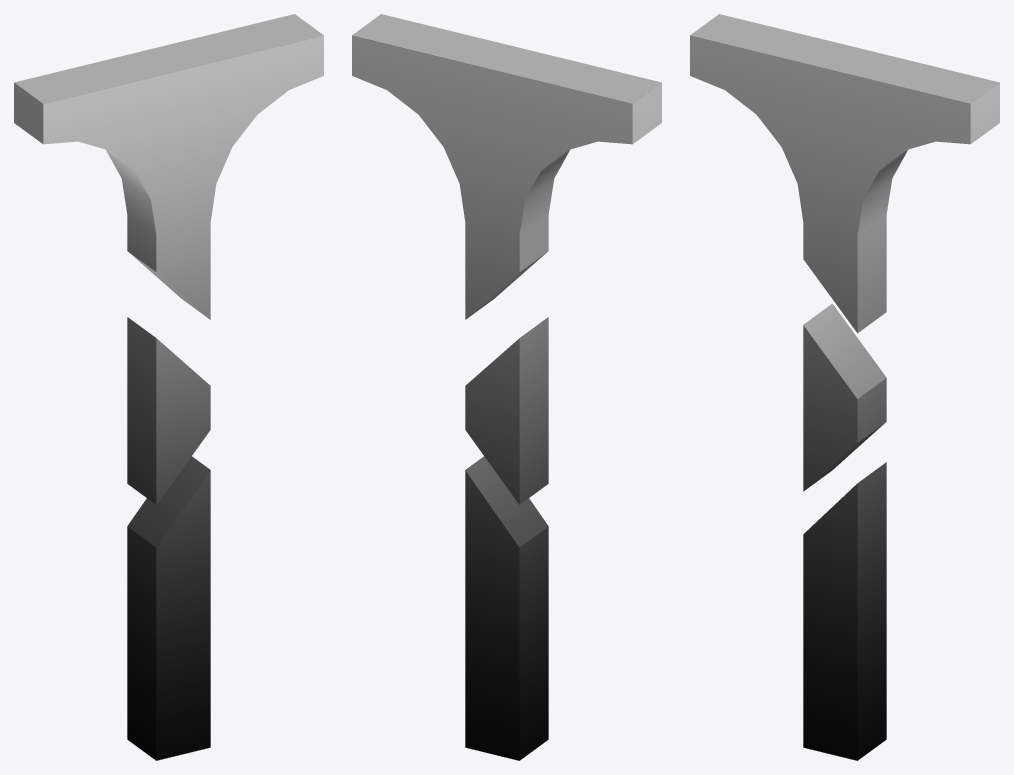
Rendered from BG_pillier_V5.fbx.
3 renders of one model, left to right at view 1: azimuth 30°, elevation 25°; view 2: azimuth 150°, elevation 25°; view 3: azimuth 330°, elevation 25°, orthographic.
Visible parts, largest first — view 1: BG_pillier_V5; view 2: BG_pillier_V5; view 3: BG_pillier_V5.
Part boxes in pixels (<box>): BG_pillier_V5: <box>14,14,323,760</box>; BG_pillier_V5: <box>352,14,661,760</box>; BG_pillier_V5: <box>690,14,999,760</box>.
Size of the model in its own units: 1024 by 2386 by 185.
